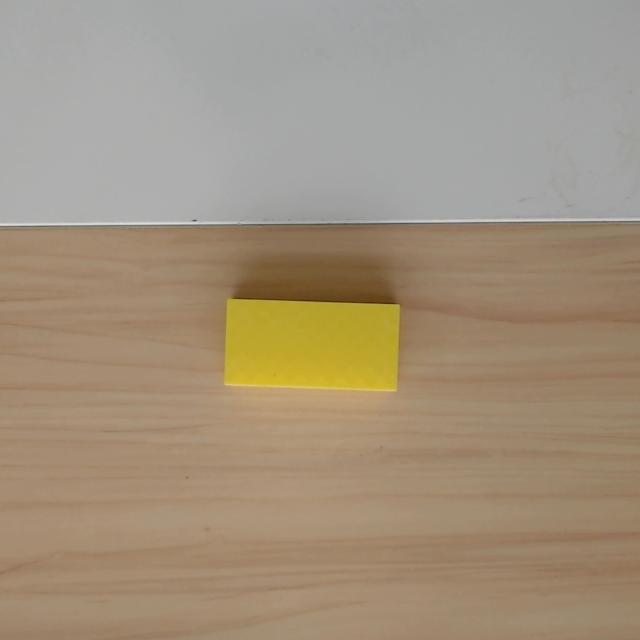Balok-Kuning-1005025: (222, 297, 402, 392)
